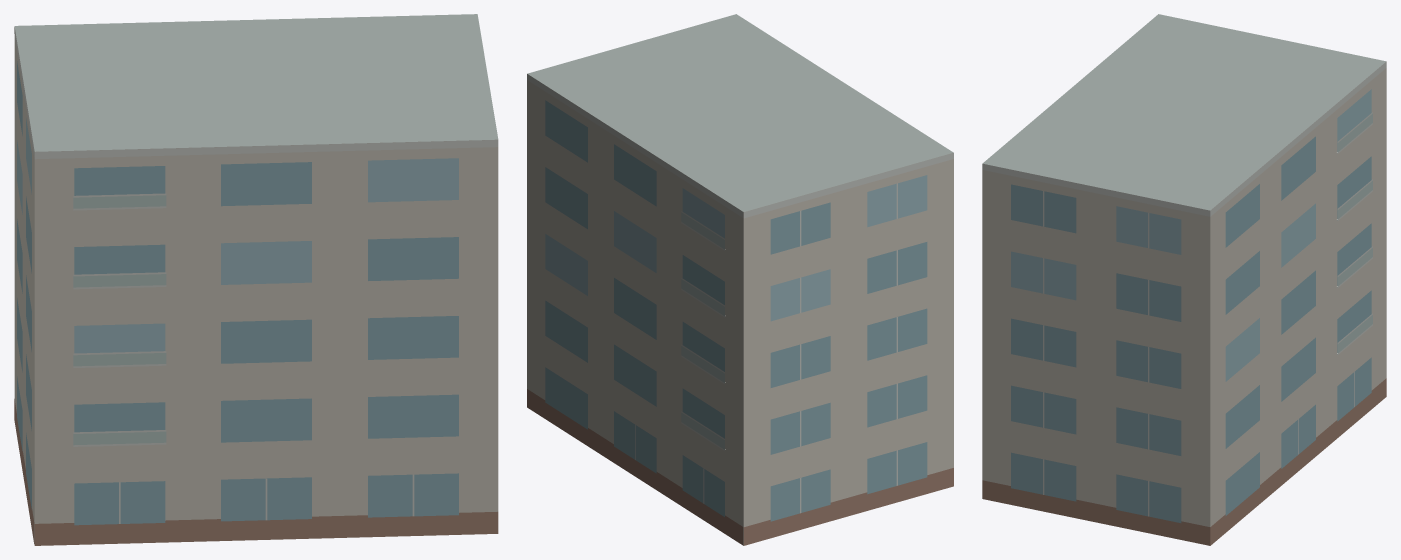
The model's file is survey-upis-32852765.glb.
3 views of the same model, side by side, from view 1: azimuth 30°, elevation 25°; view 2: azimuth 150°, elevation 25°; view 3: azimuth 270°, elevation 25° (orthographic). The views are drawn at different scales.
Parts seen in each view (by area): view 1: survey-upis-32852765.tmp; view 2: survey-upis-32852765.tmp; view 3: survey-upis-32852765.tmp.
Part boxes in pixels (x1,y1,x2,y2): survey-upis-32852765.tmp: (14,14,498,545); survey-upis-32852765.tmp: (527,14,953,545); survey-upis-32852765.tmp: (982,14,1386,545).
Bounding box in the file's own units: 16.35 × 13 × 14.22.
